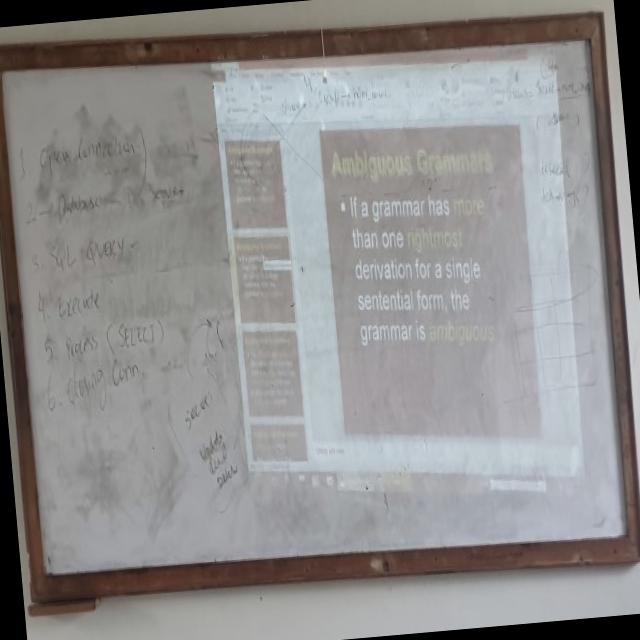Slide: (211, 46, 585, 511)
White-board: (0, 22, 637, 590)
